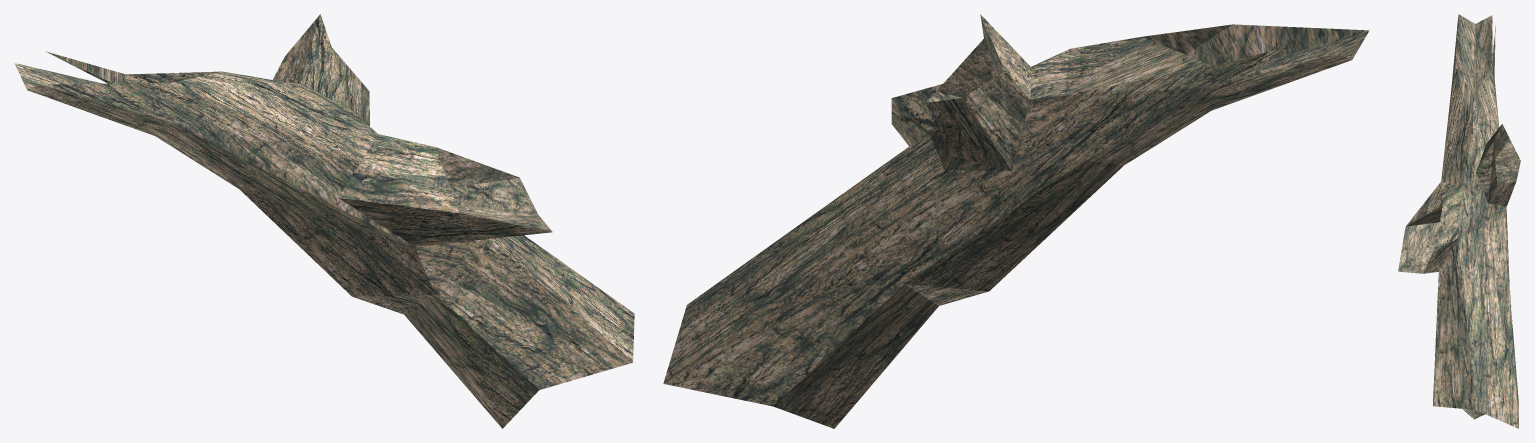
File: poi_all_lair_dead_log_small_l2.fbx
The picture shows the model from 3 angles, left to right: view 1: azimuth 30°, elevation 25°; view 2: azimuth 150°, elevation 25°; view 3: azimuth 270°, elevation 25°; orthographic projection. The views are drawn at different scales.
Parts seen in each view (by area): view 1: mesh_node; view 2: mesh_node; view 3: mesh_node.
Part boxes in pixels (bbox=[...]): mesh_node: bbox=[14, 14, 634, 428]; mesh_node: bbox=[663, 14, 1369, 428]; mesh_node: bbox=[1398, 14, 1520, 428].
Size of the model in its own units: 6.7 by 4.96 by 2.03.
